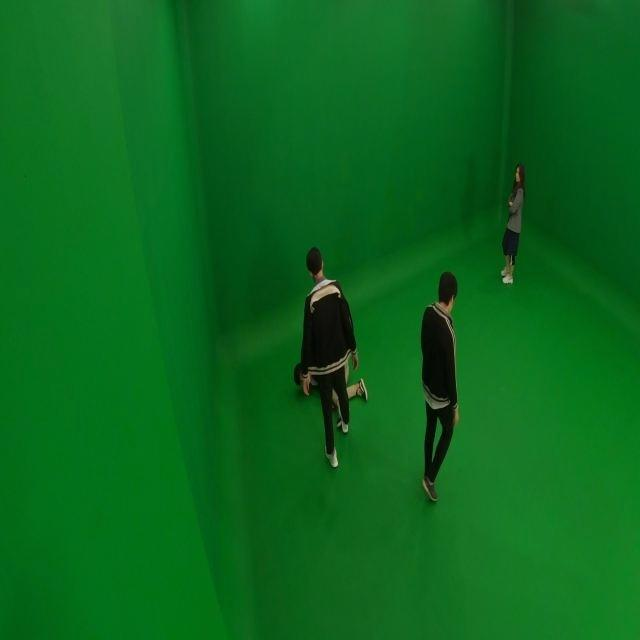non-fight: (298, 242, 361, 473), (416, 272, 461, 508), (497, 163, 525, 283)
